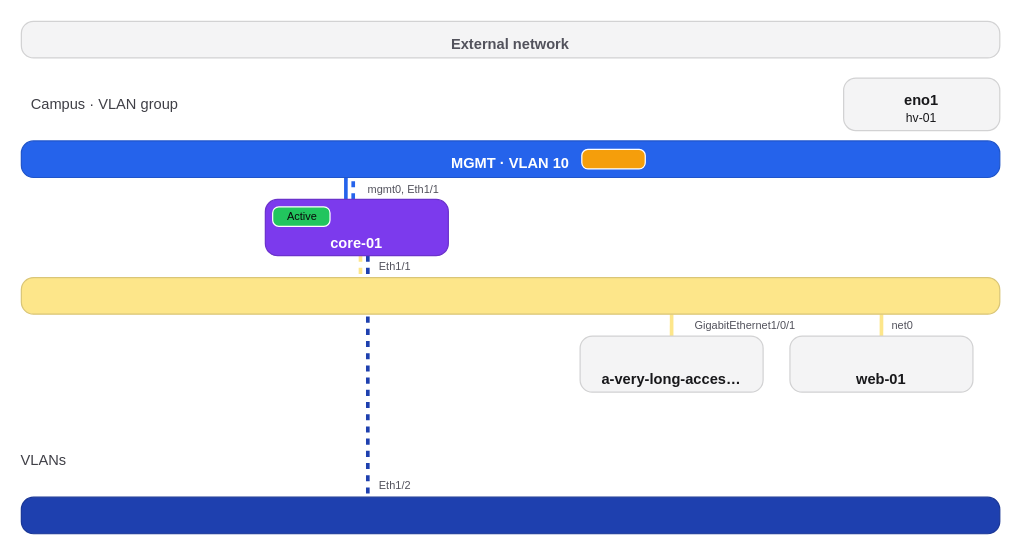
Image size: 1021x555. Some labels were removed from this diagram. Each missing label, with the centre of its shape:
LEGACY · VLAN 99: the point at 510,515
Planned: the point at 613,158
SERVERS · VLAN 20: the point at 510,295
